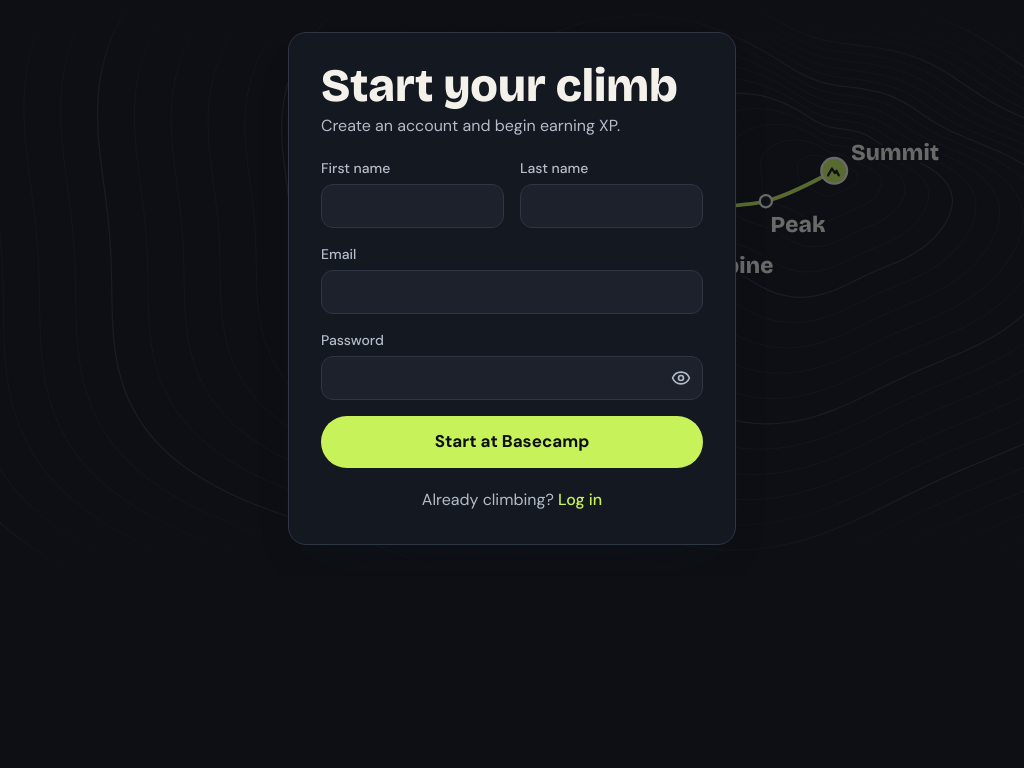
AuthPage: sign up face › puts a duplicate email under the Email field and offers to log in instead
The image size is (1024, 768).
Step 1. Type "  Ada " into the field labelled "First name" → {"x": 412, "y": 206}, box left=321, top=184, right=504, bottom=228
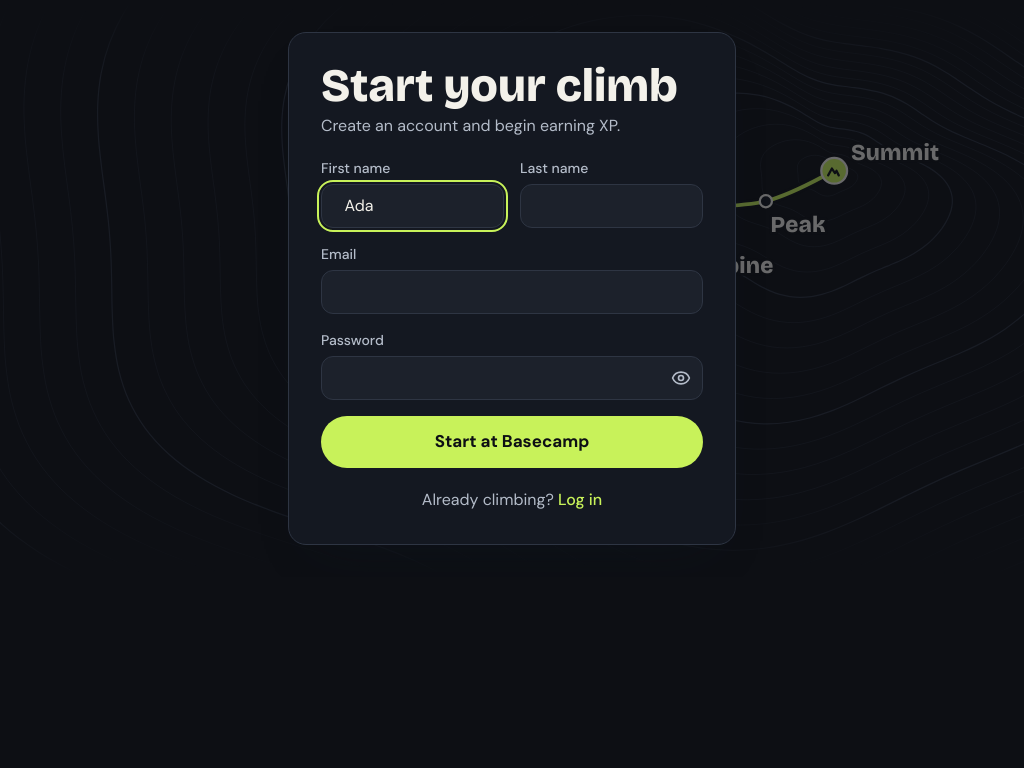
Step 2. Type "Lovelace" into the field labelled "Last name" → {"x": 612, "y": 206}, box left=520, top=184, right=703, bottom=228
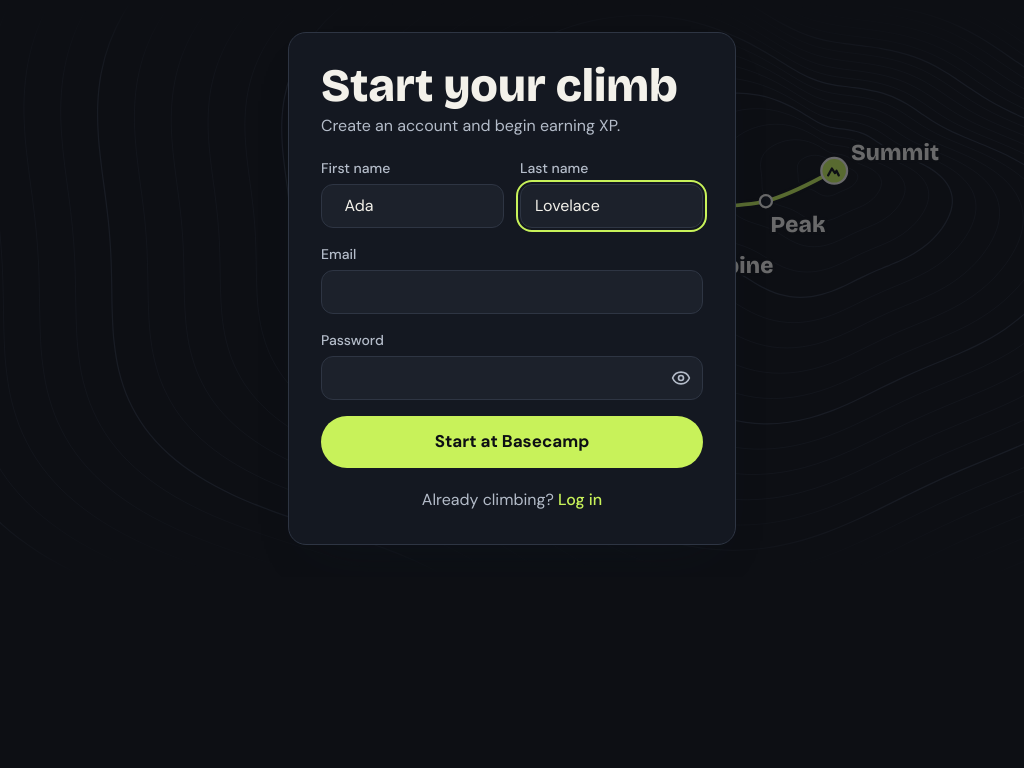
Step 3. Type "ada@example.com" into the field labelled "Email" → {"x": 512, "y": 292}, box left=321, top=270, right=703, bottom=314
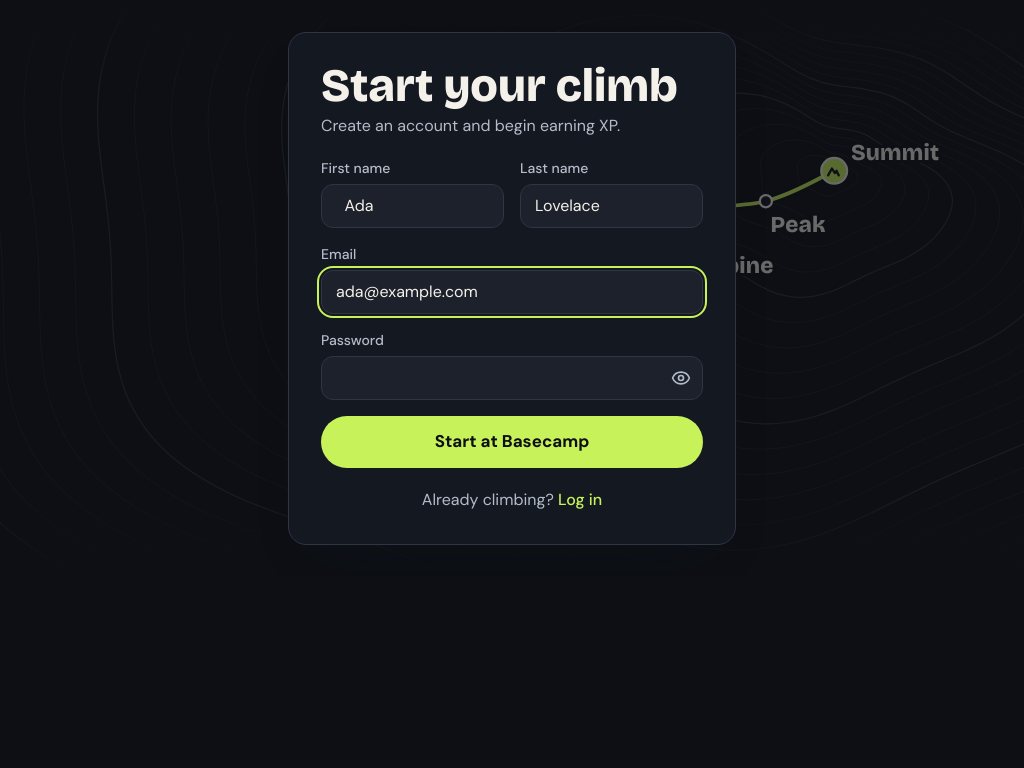
Step 4. Type "secret" into the password field labelled "Password" → {"x": 512, "y": 378}, box left=321, top=356, right=703, bottom=400
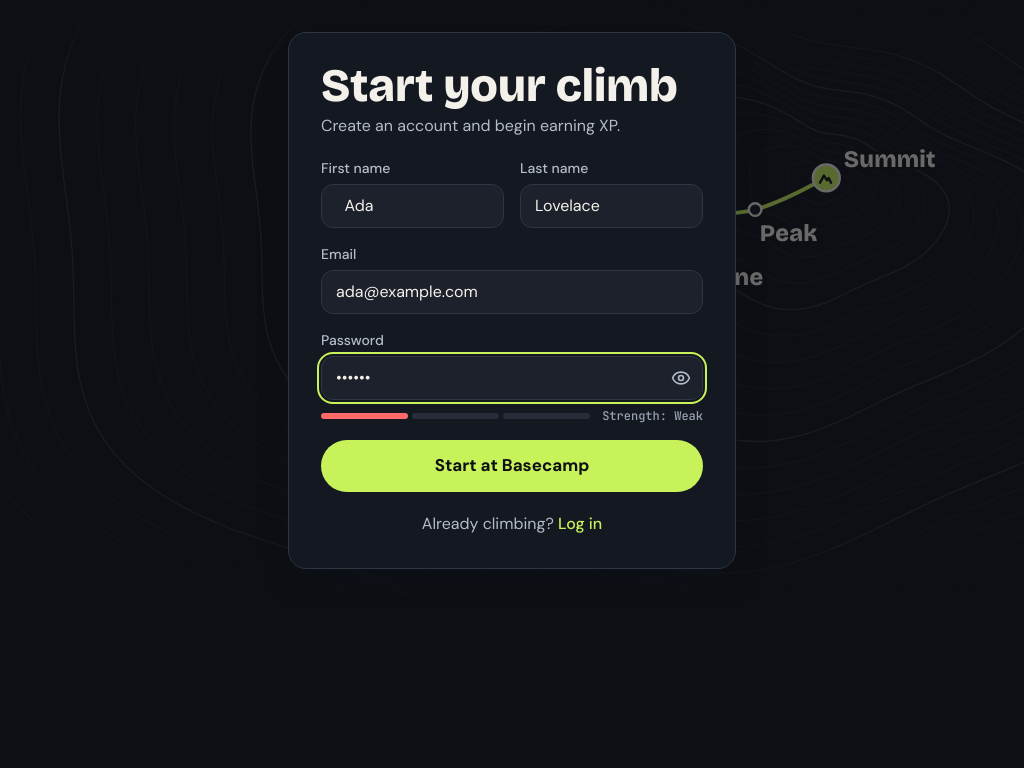
Step 5. Click the button "Start at Basecamp" → {"x": 512, "y": 466}, box left=321, top=440, right=703, bottom=492
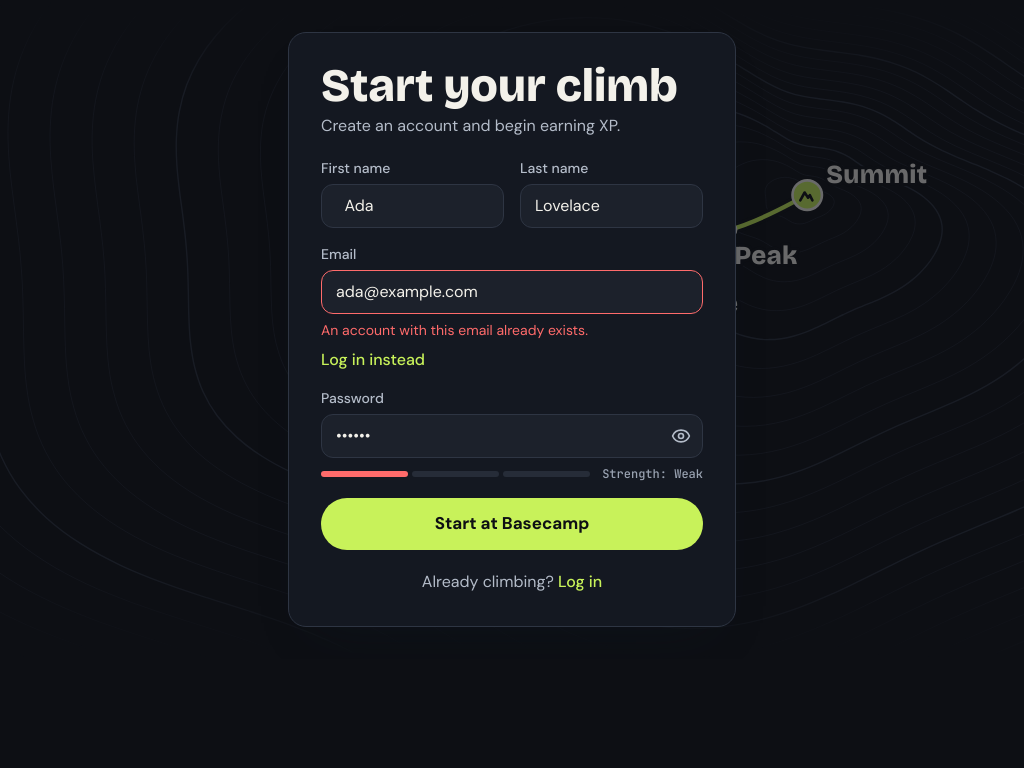
Expected: the text "An account with this email already exists." is shown, left=321, top=321, right=588, bottom=339
Step 6. Click the button "Log in instead" → {"x": 373, "y": 360}, box left=321, top=348, right=425, bottom=372
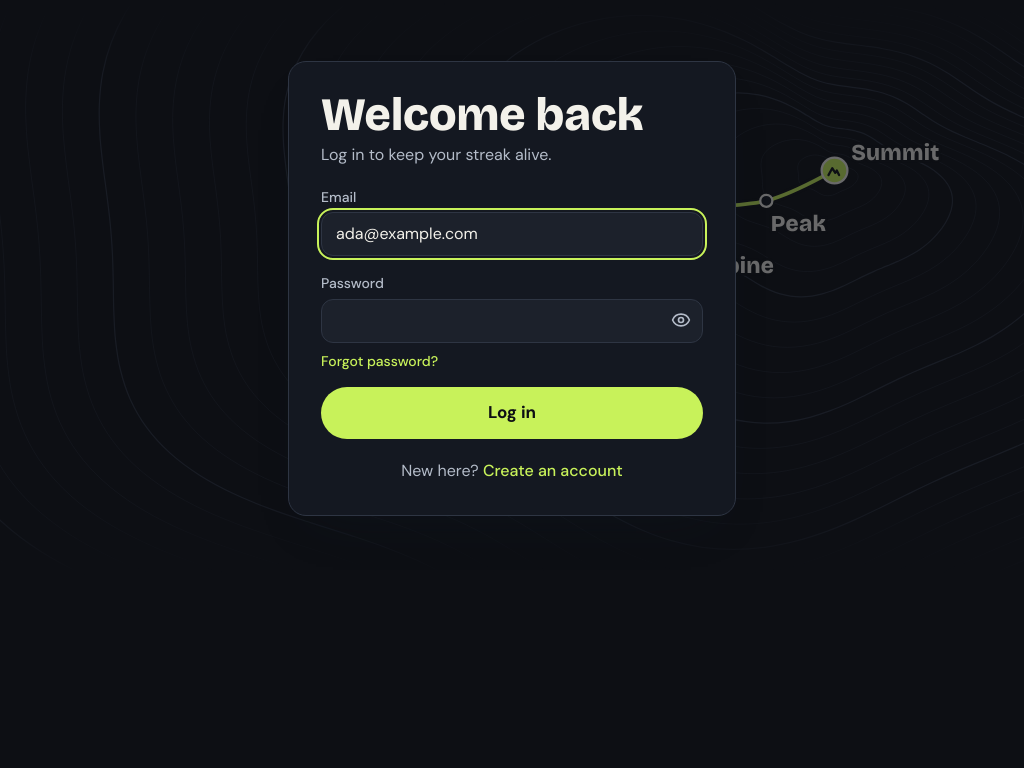
Expected: the field labelled "Email" holds "ada@example.com", left=321, top=212, right=703, bottom=256
